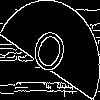O: (25, 24, 71, 85)
